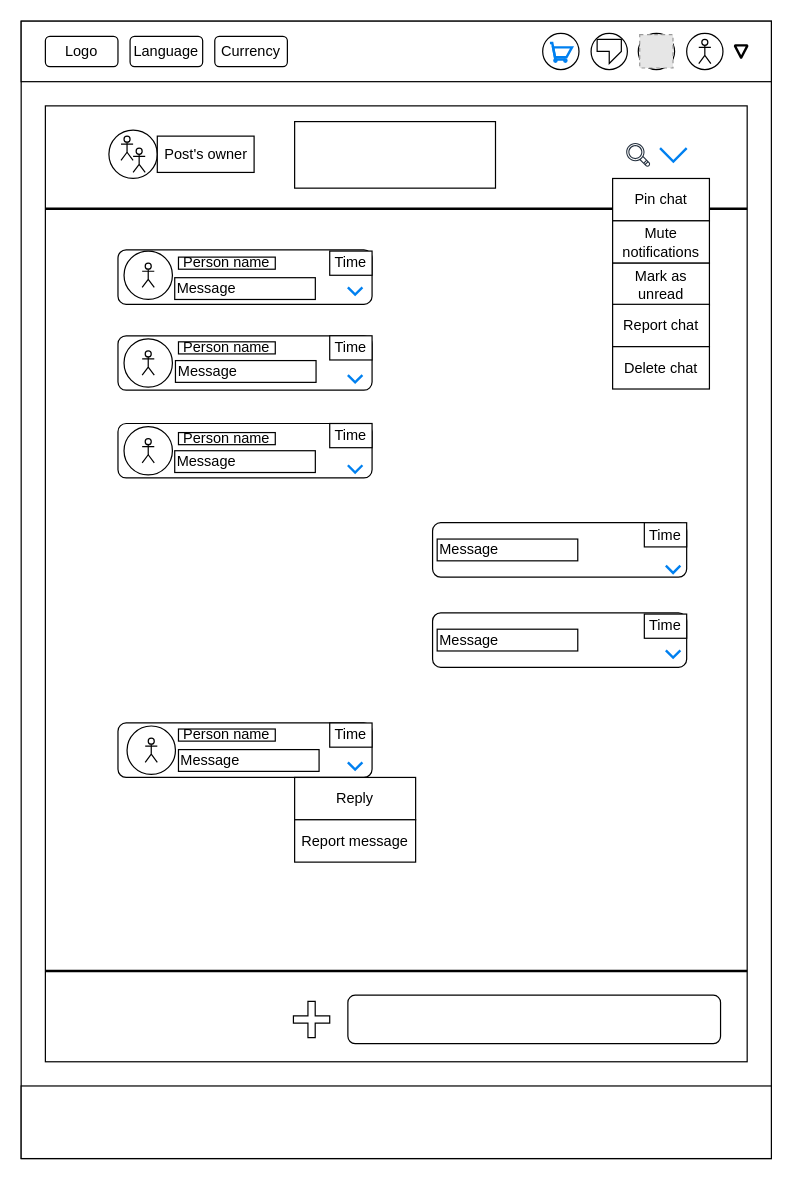
This 793x1180 diagram has some shape labels left out. Grey dashed boxes stand in for pictures. Each missing label, with the box of its shape:
Chat members names: (96, 169, 319, 206)
footpage: (20, 1085, 771, 1159)
Related Image and name of the post: (293, 120, 495, 188)
Type message: (347, 994, 721, 1044)
